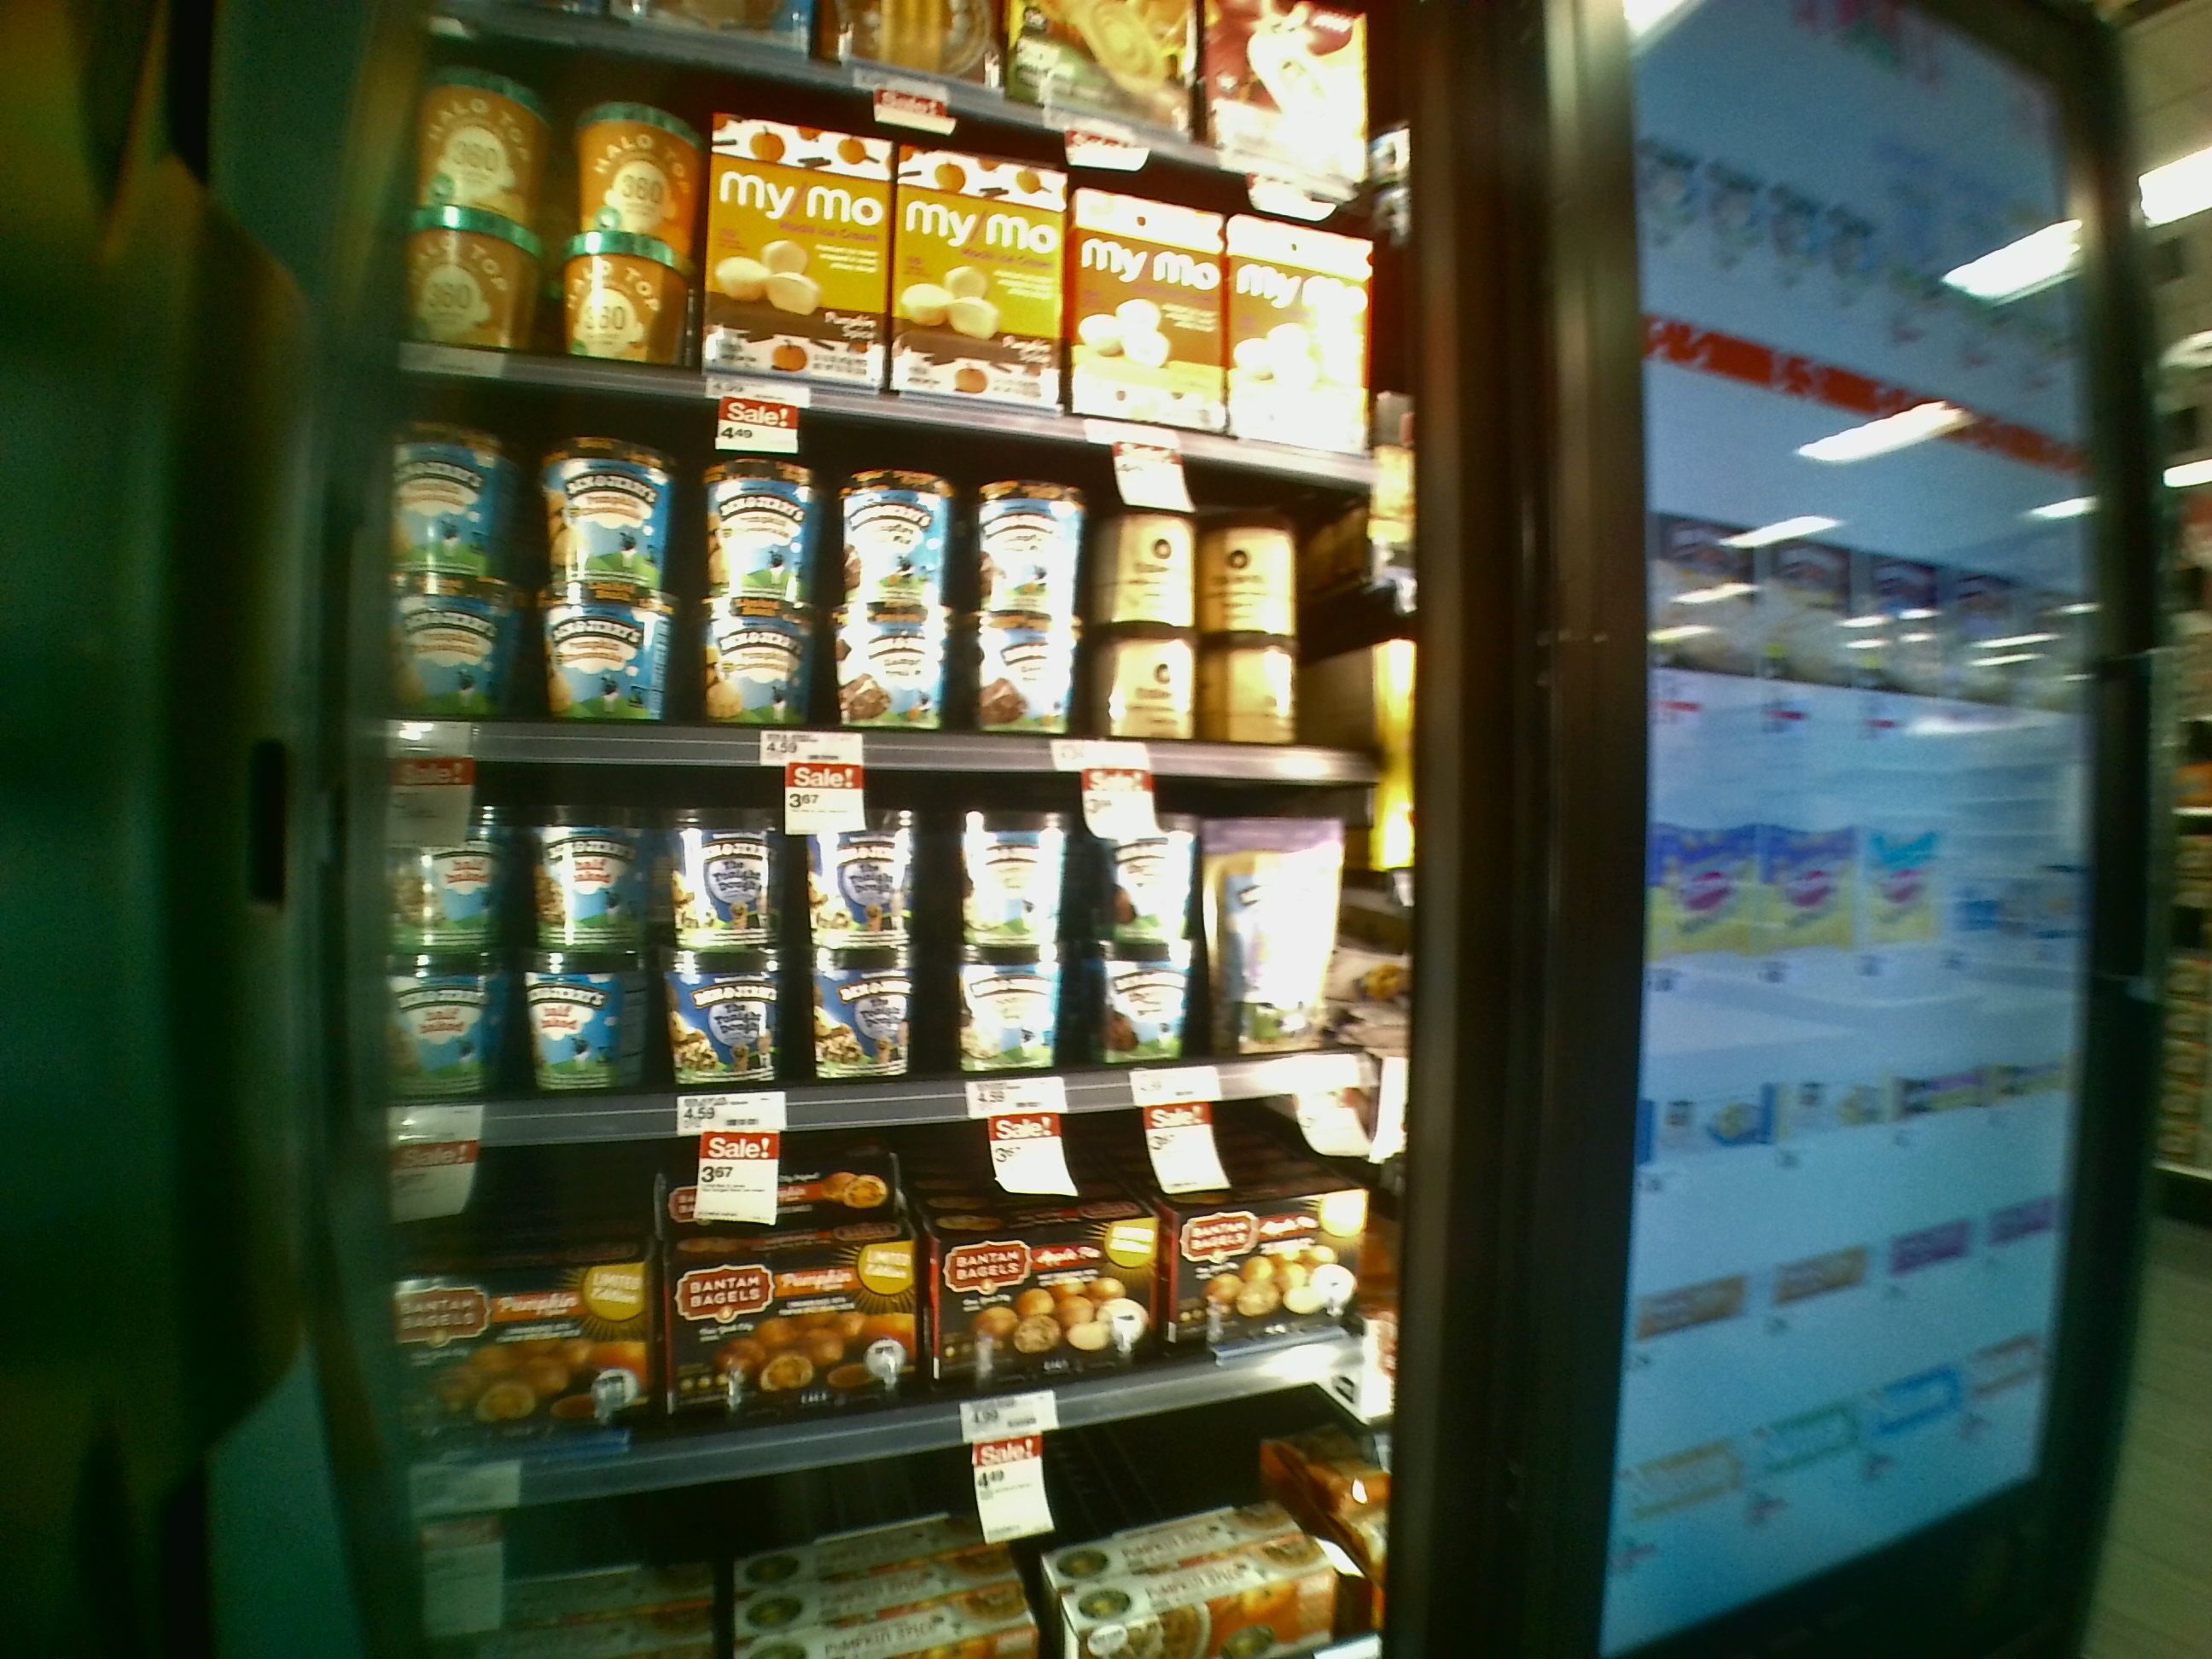shelf: (327, 735, 1446, 1148), (374, 364, 1406, 779), (345, 1100, 1421, 1485)
